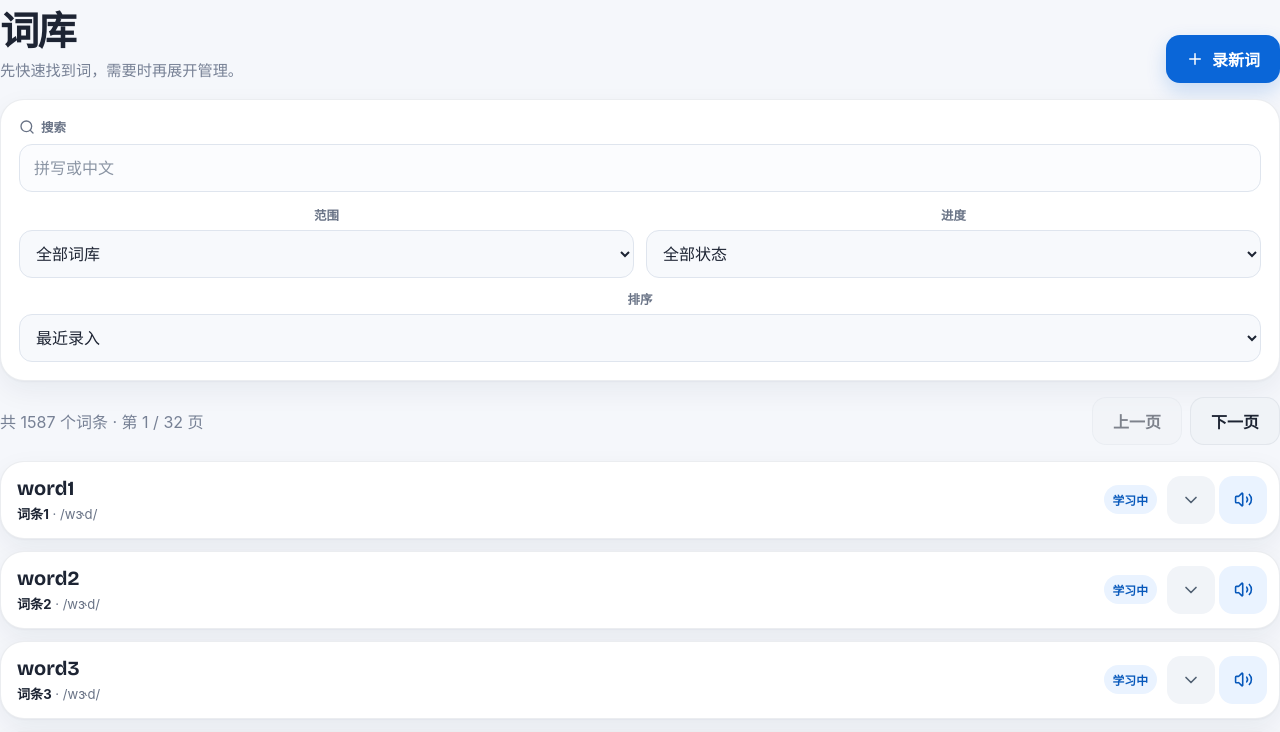
Test: 大词库分页 › 限制同时渲染量，翻页可达所有词，搜索和错次排序覆盖完整词库
The image size is (1280, 732).
Expected: the button with aria-label "查看 word1 详情" is shown, x1=1 y1=462 x2=1215 y2=538
Expected: the text "共 1587 个词条 · 第 1 / 32 页" is shown, x1=0 y1=409 x2=204 y2=433
Click the button "下一页".
click(1235, 421)  # box x1=1190 y1=397 x2=1279 y2=445
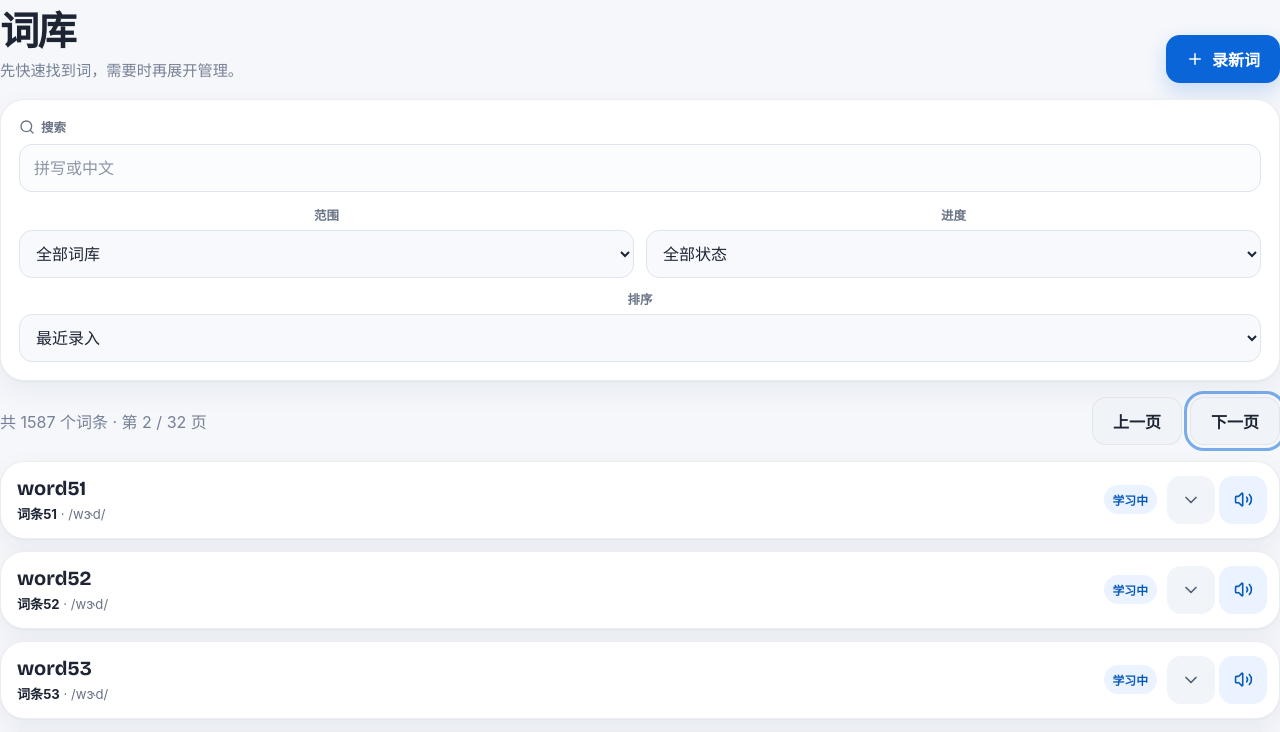
Now the button with aria-label "查看 word51 详情" is shown, box x1=1 y1=462 x2=1215 y2=538
Type "word1587" into the field labelled "搜索".
click(640, 168); type("word1587")  # box x1=19 y1=144 x2=1261 y2=192
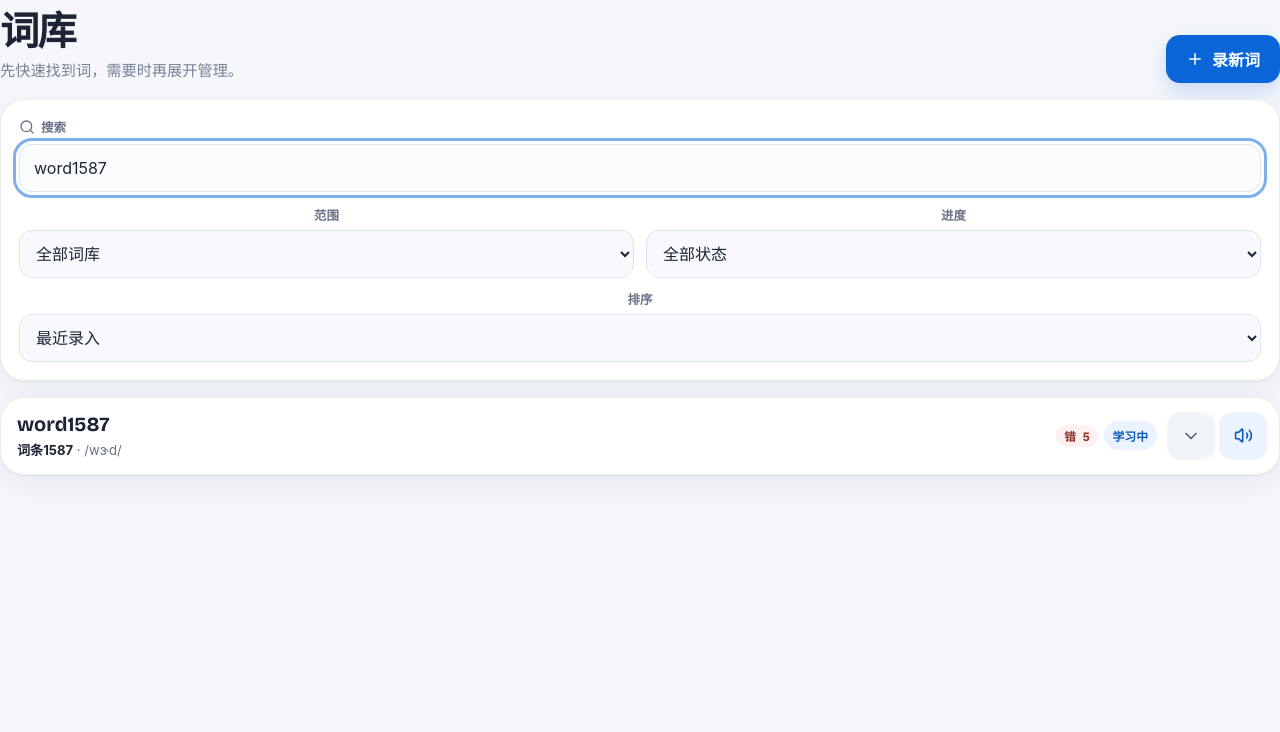
Now the button with aria-label "查看 word1587 详情" is shown, box x1=1 y1=398 x2=1215 y2=474
Clear the field labelled "搜索" at (640, 168), box x1=19 y1=144 x2=1261 y2=192
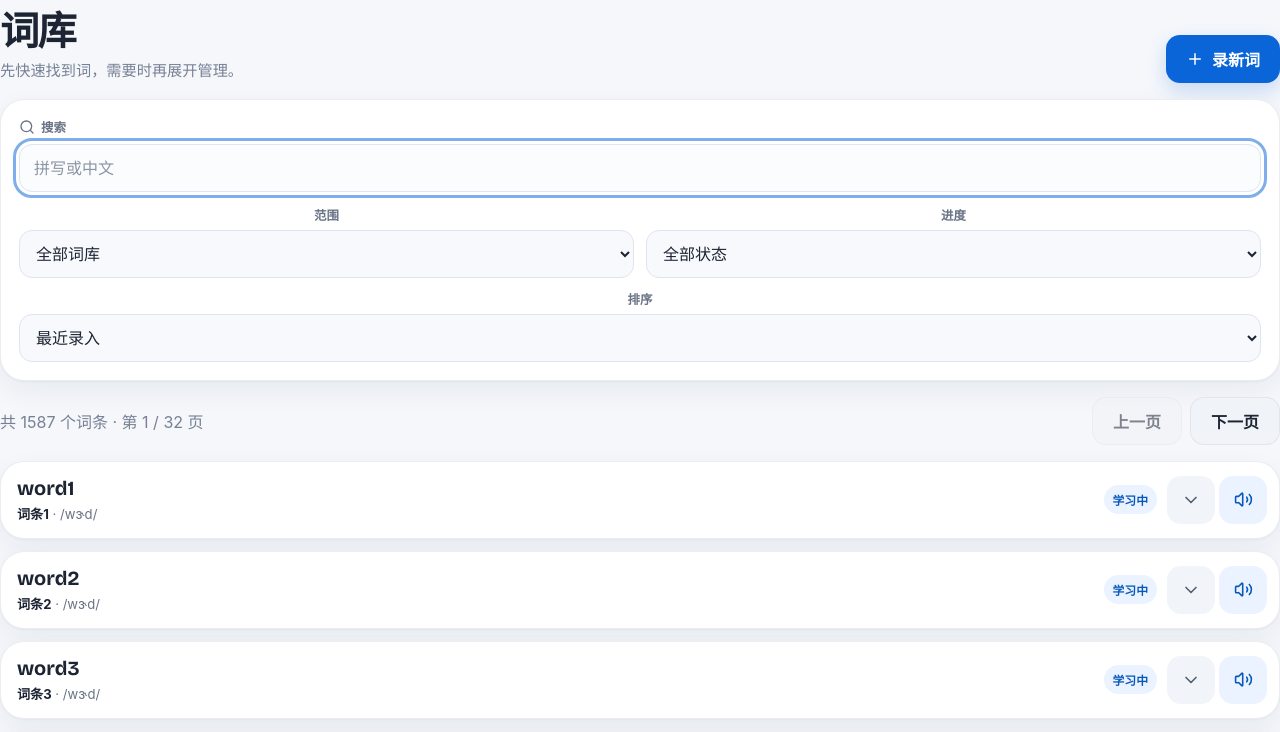
Now the text "共 1587 个词条 · 第 1 / 32 页" is shown, box x1=0 y1=409 x2=204 y2=433
Now the button with aria-label "查看 word1 详情" is shown, box x1=1 y1=462 x2=1215 y2=538
Select "错误次数（多到少）" in the dropdown named "单词排序" at (640, 338), box x1=19 y1=314 x2=1261 y2=362
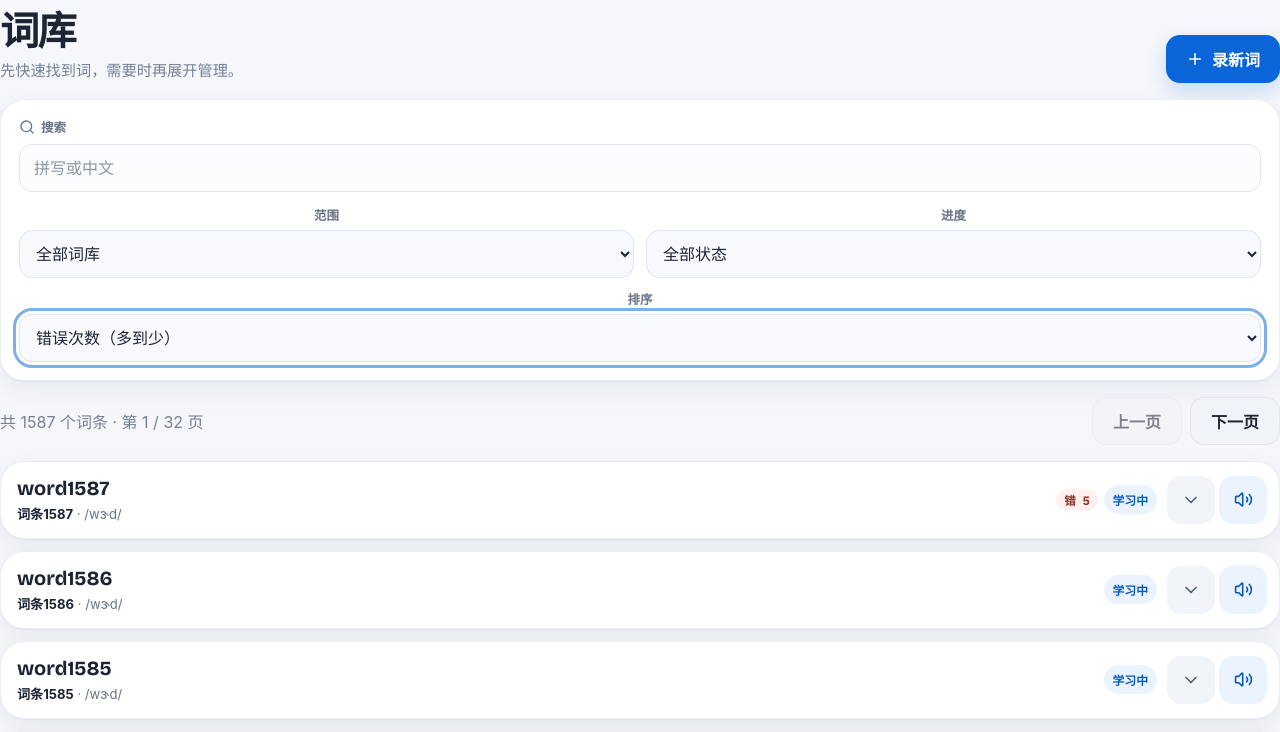
Now the text "共 1587 个词条 · 第 1 / 32 页" is shown, box x1=0 y1=409 x2=204 y2=433
Now the element showing "word1587 词条1587 · /wɝd/ 错 5 学习中" is shown, box x1=0 y1=461 x2=1279 y2=539
